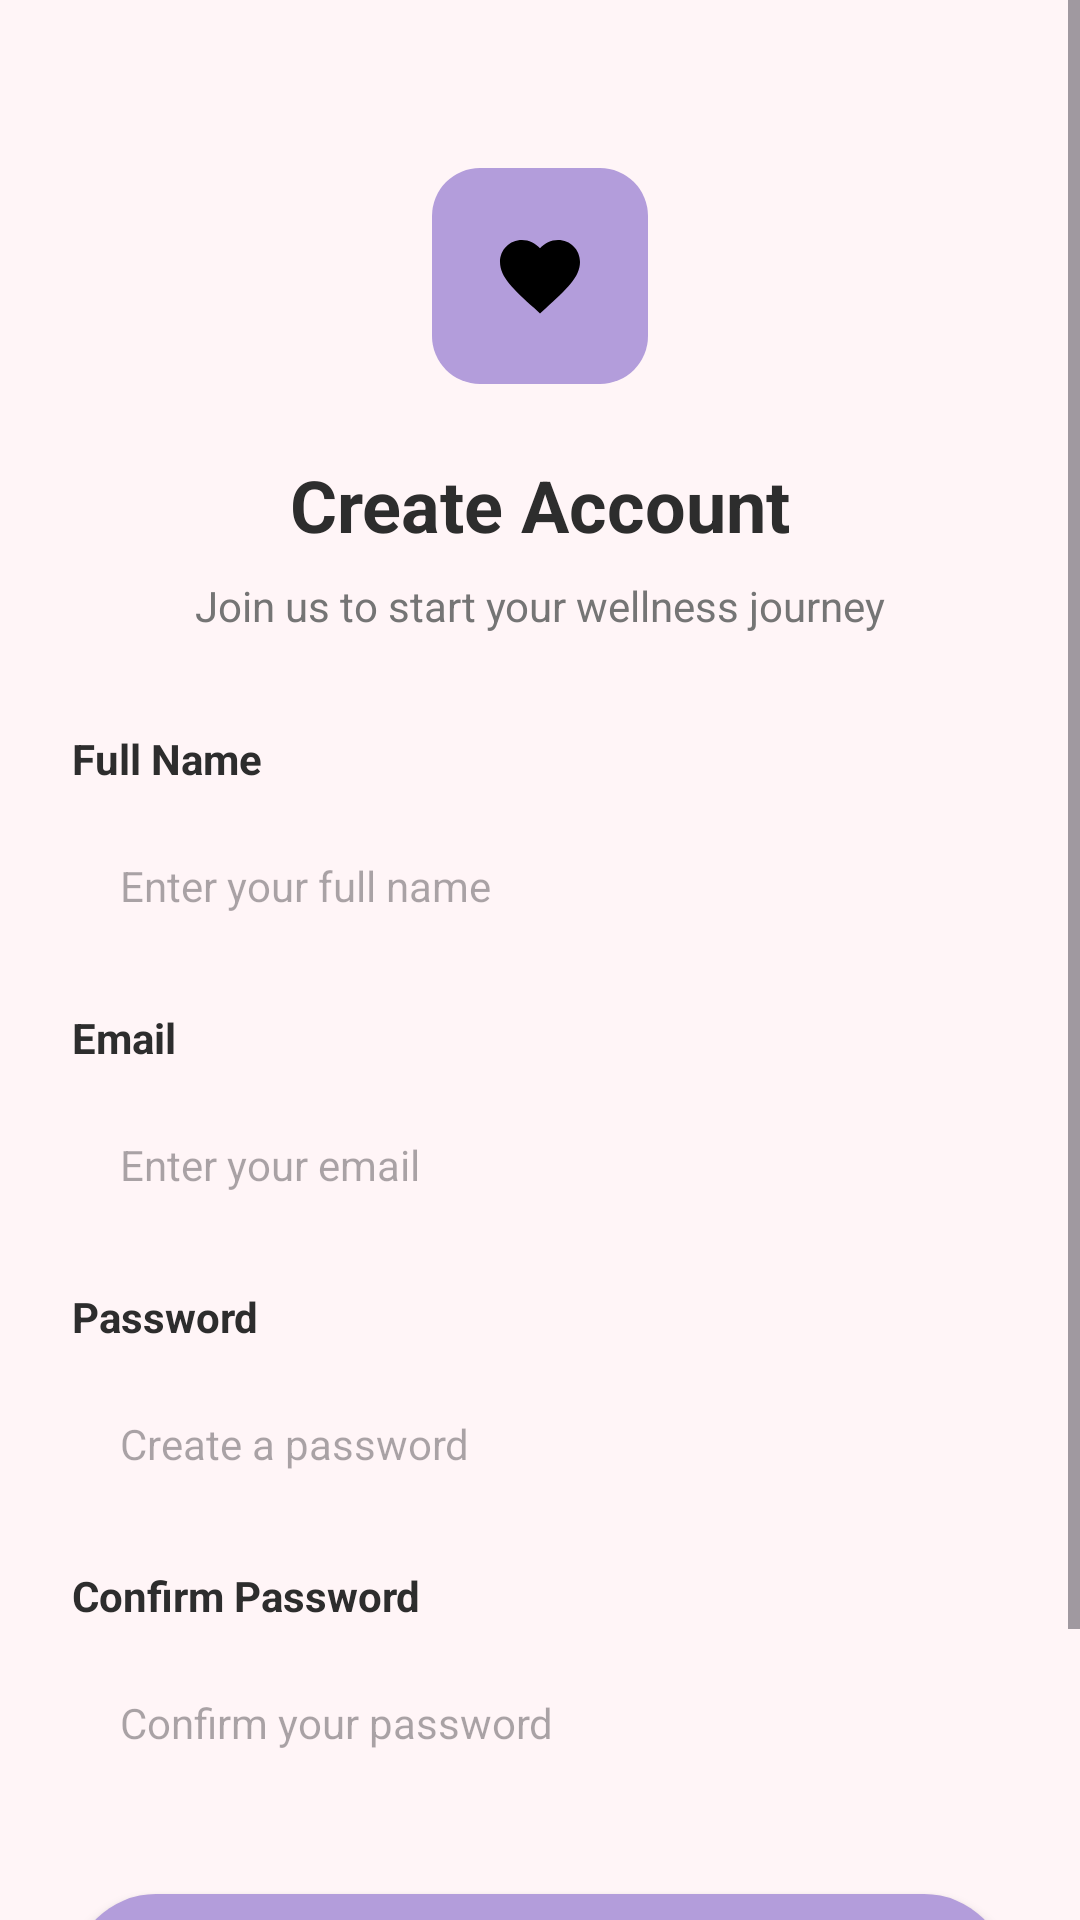

Where icons sit on this 1080px x 1920px app screen, as {"x1": x1, "y1": y1, "x2": x2, "y2": y2}:
heart: {"x1": 500, "y1": 240, "x2": 580, "y2": 314}
